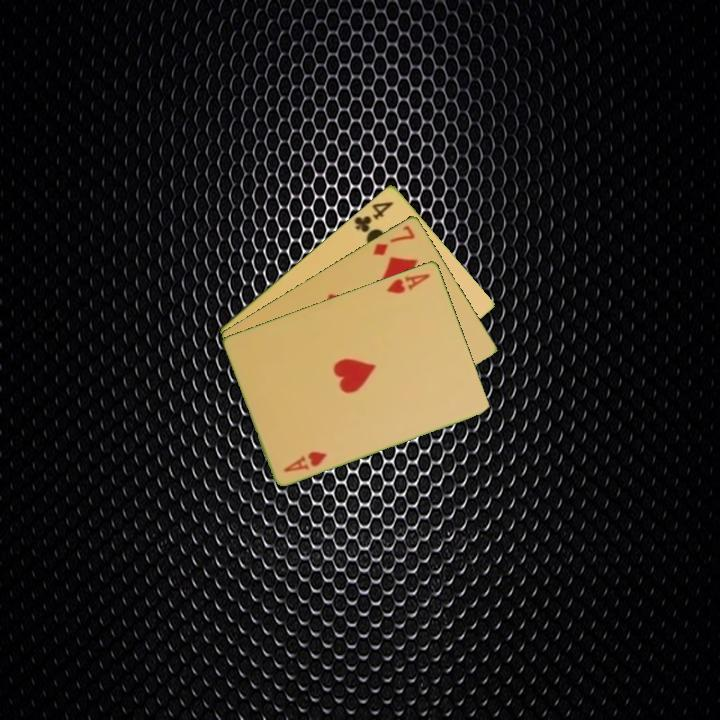4c: (350, 197, 396, 237)
7d: (369, 221, 418, 258)
Ah: (280, 447, 330, 475), (383, 270, 433, 296)
